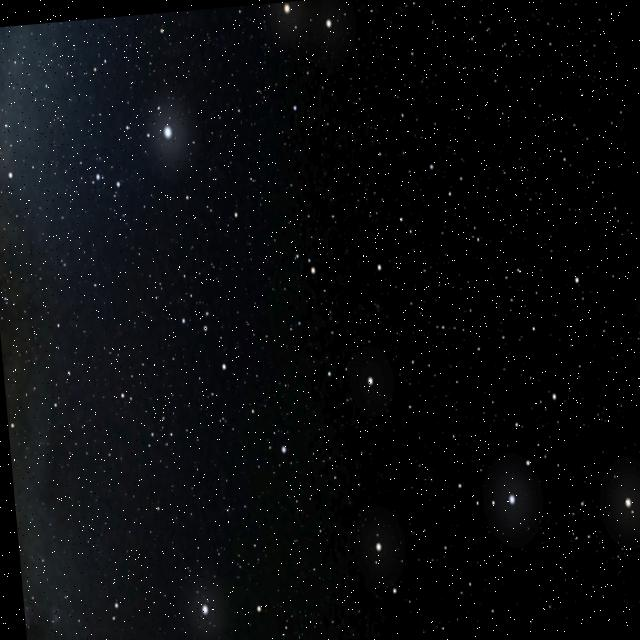Hercules: (158, 85, 513, 614)
